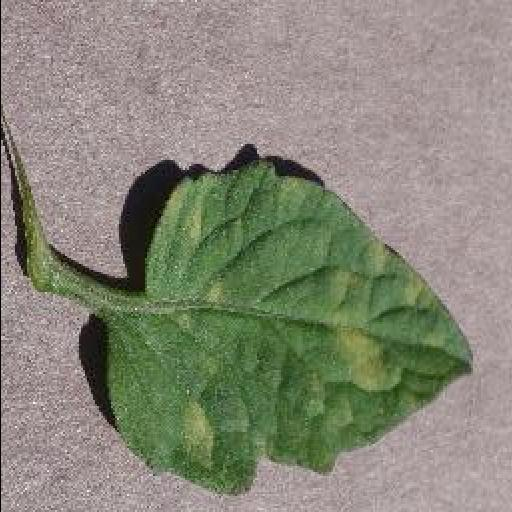disease_tomato: (105, 159, 475, 496)
